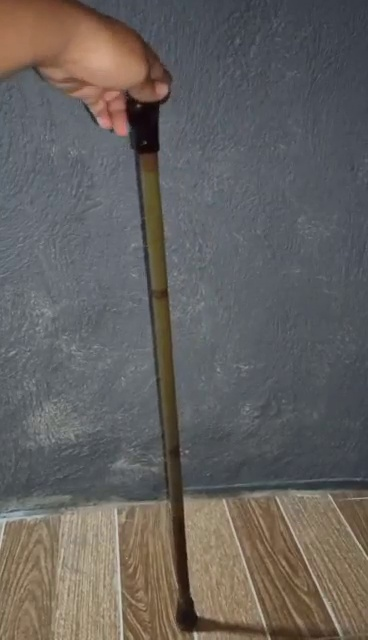cane: (120, 95, 205, 636)
hand: (1, 1, 173, 136)
